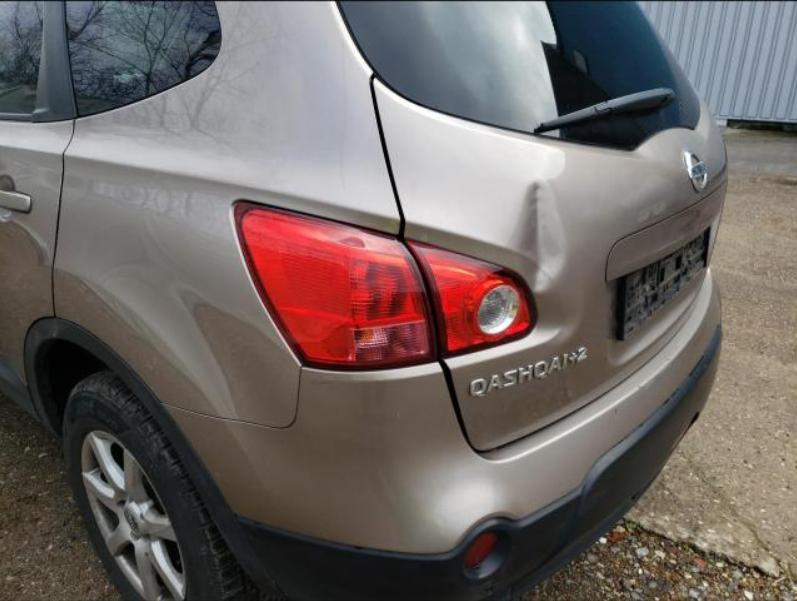Back-bumper: (24, 269, 722, 600)
Back-door: (0, 0, 76, 418)
Back-window: (66, 1, 221, 116), (0, 0, 42, 113)
Back-windshield: (334, 0, 700, 151)
Fender: (53, 0, 400, 429)
Front-wheel: (60, 370, 280, 600)
Tail-light: (234, 202, 438, 371), (405, 240, 536, 357)
Trunk: (337, 0, 728, 451)
